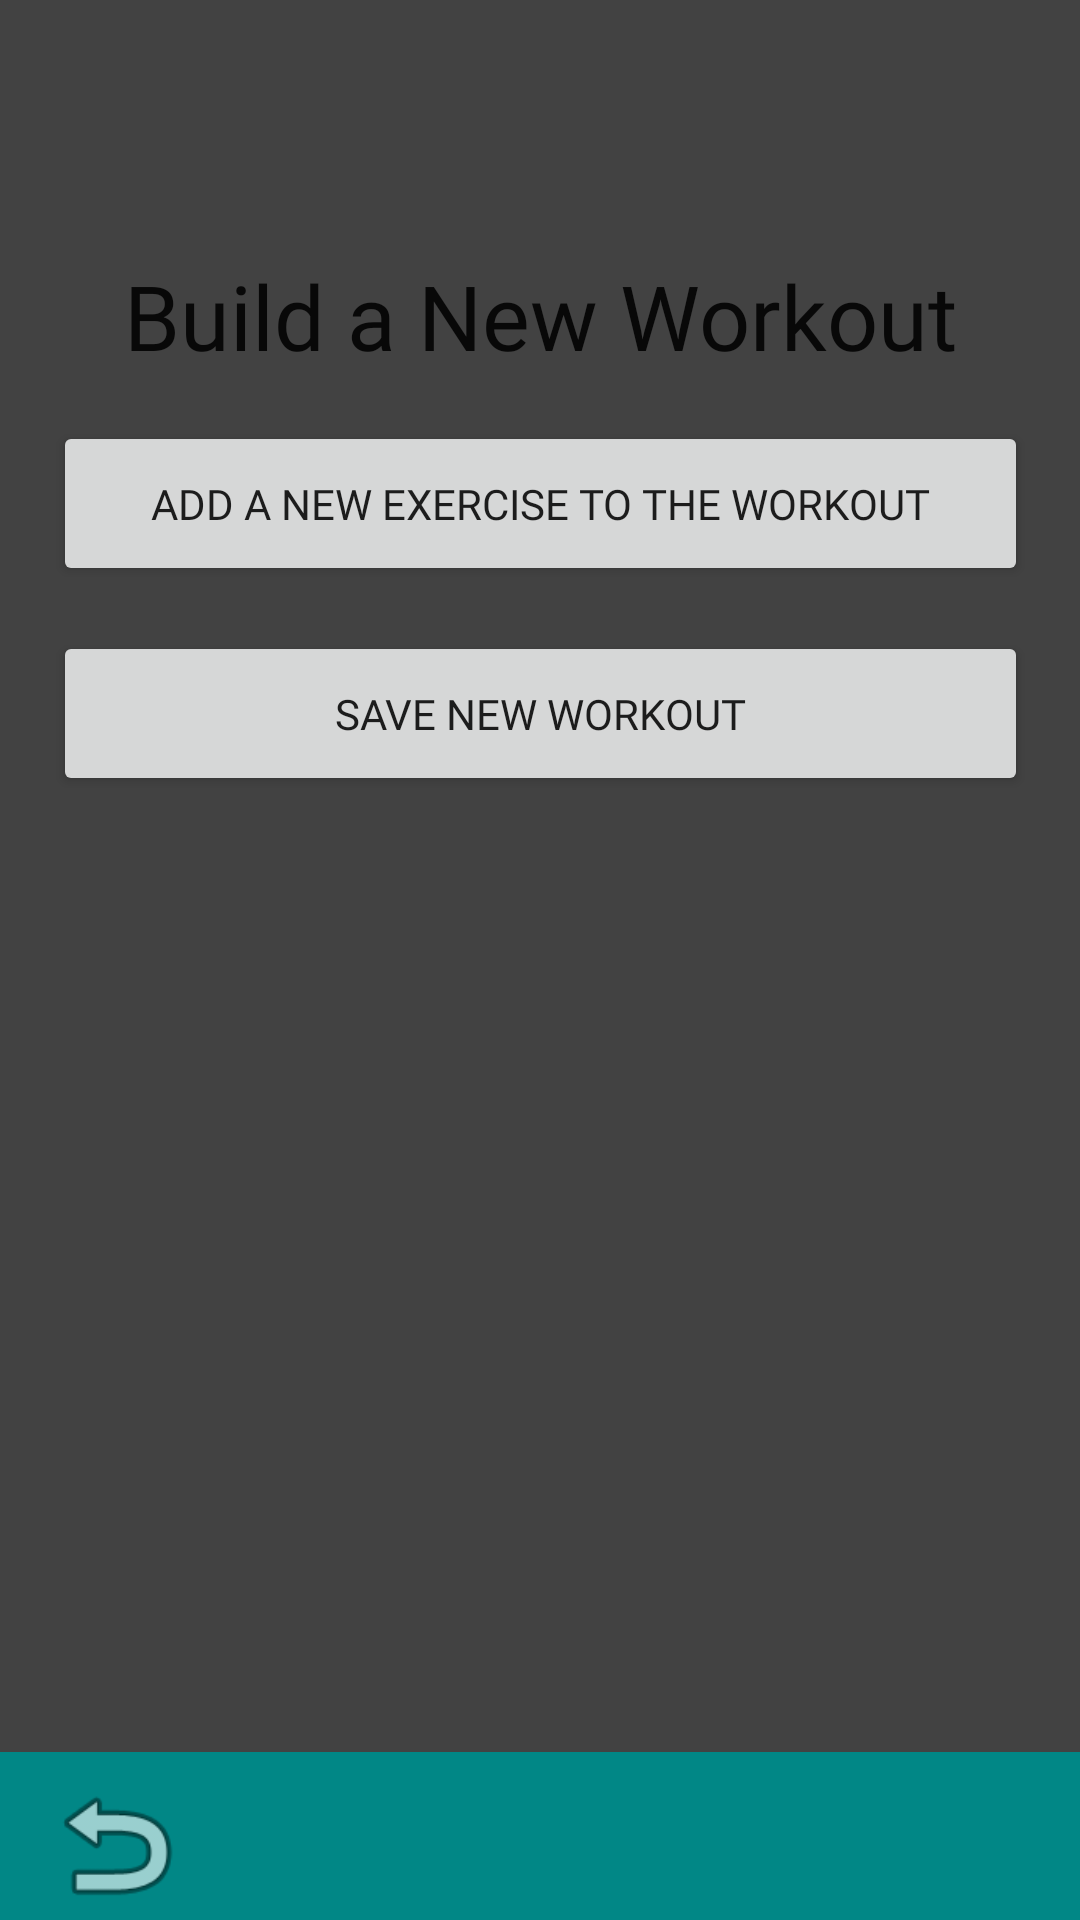

Point at icon controls on the screen. Image size 1080px x 1920px, points as (x=x, y=y).
revert: (x=118, y=1846)
